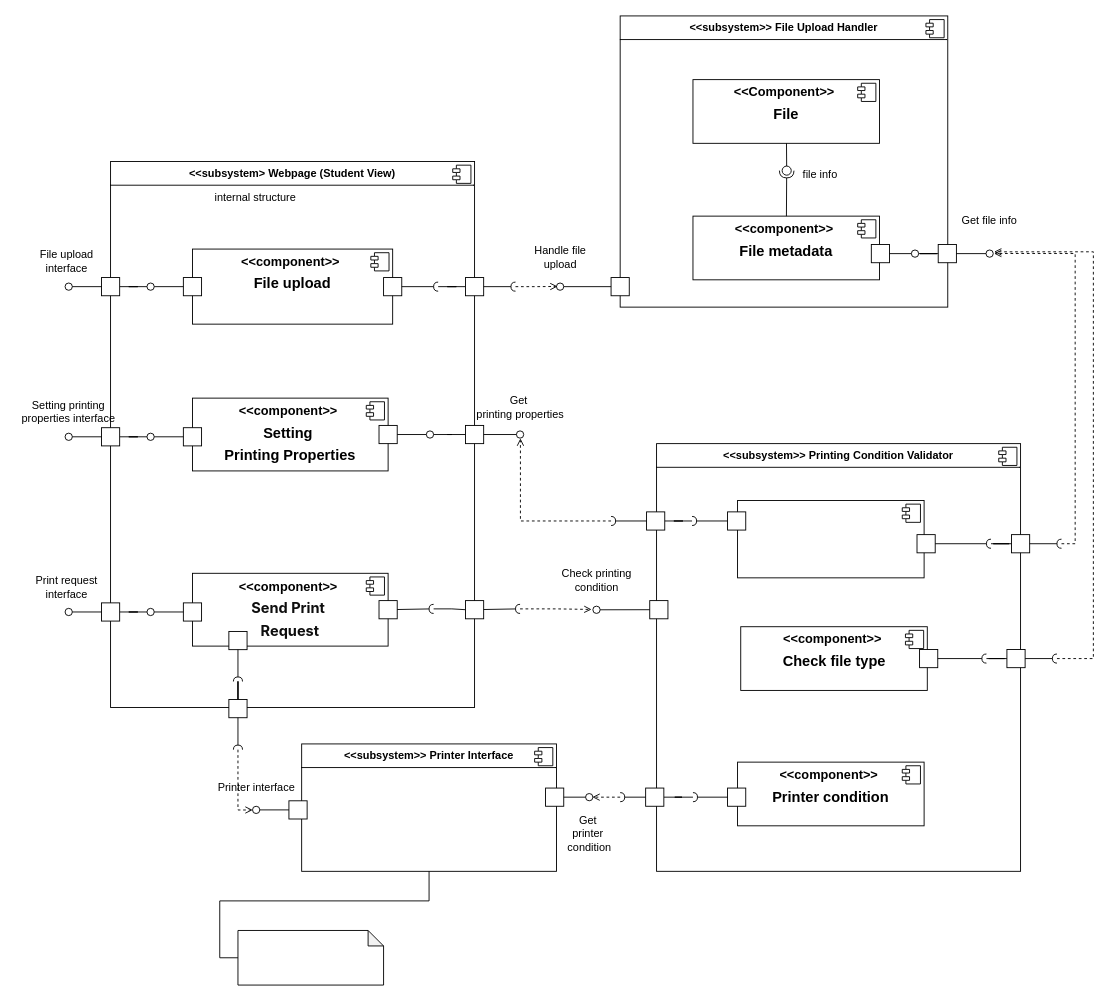
Some shapes in this 1117 by 1001 pixel diagram are drawn without their labels. Each missing label, with the centre of its shape:
"<<component>> Required page number calculator" belongs at (x=830, y=539).
"Provided interface for communicating with printers" belongs at (x=310, y=957).
